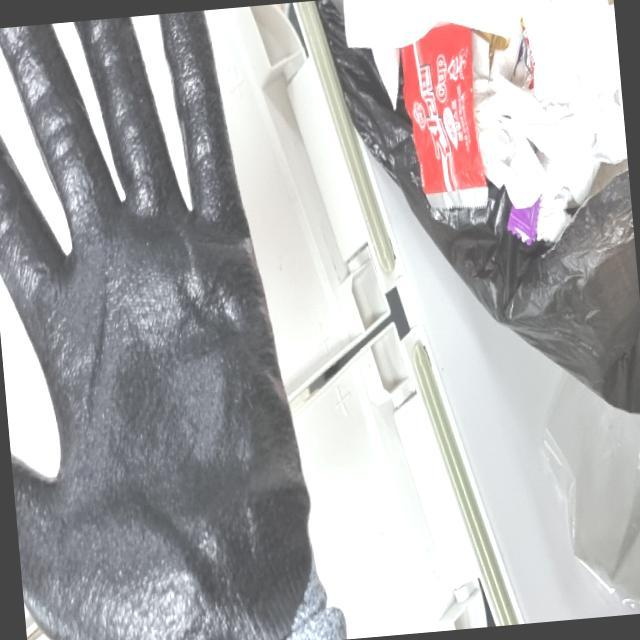Gloves: (0, 5, 355, 640)
